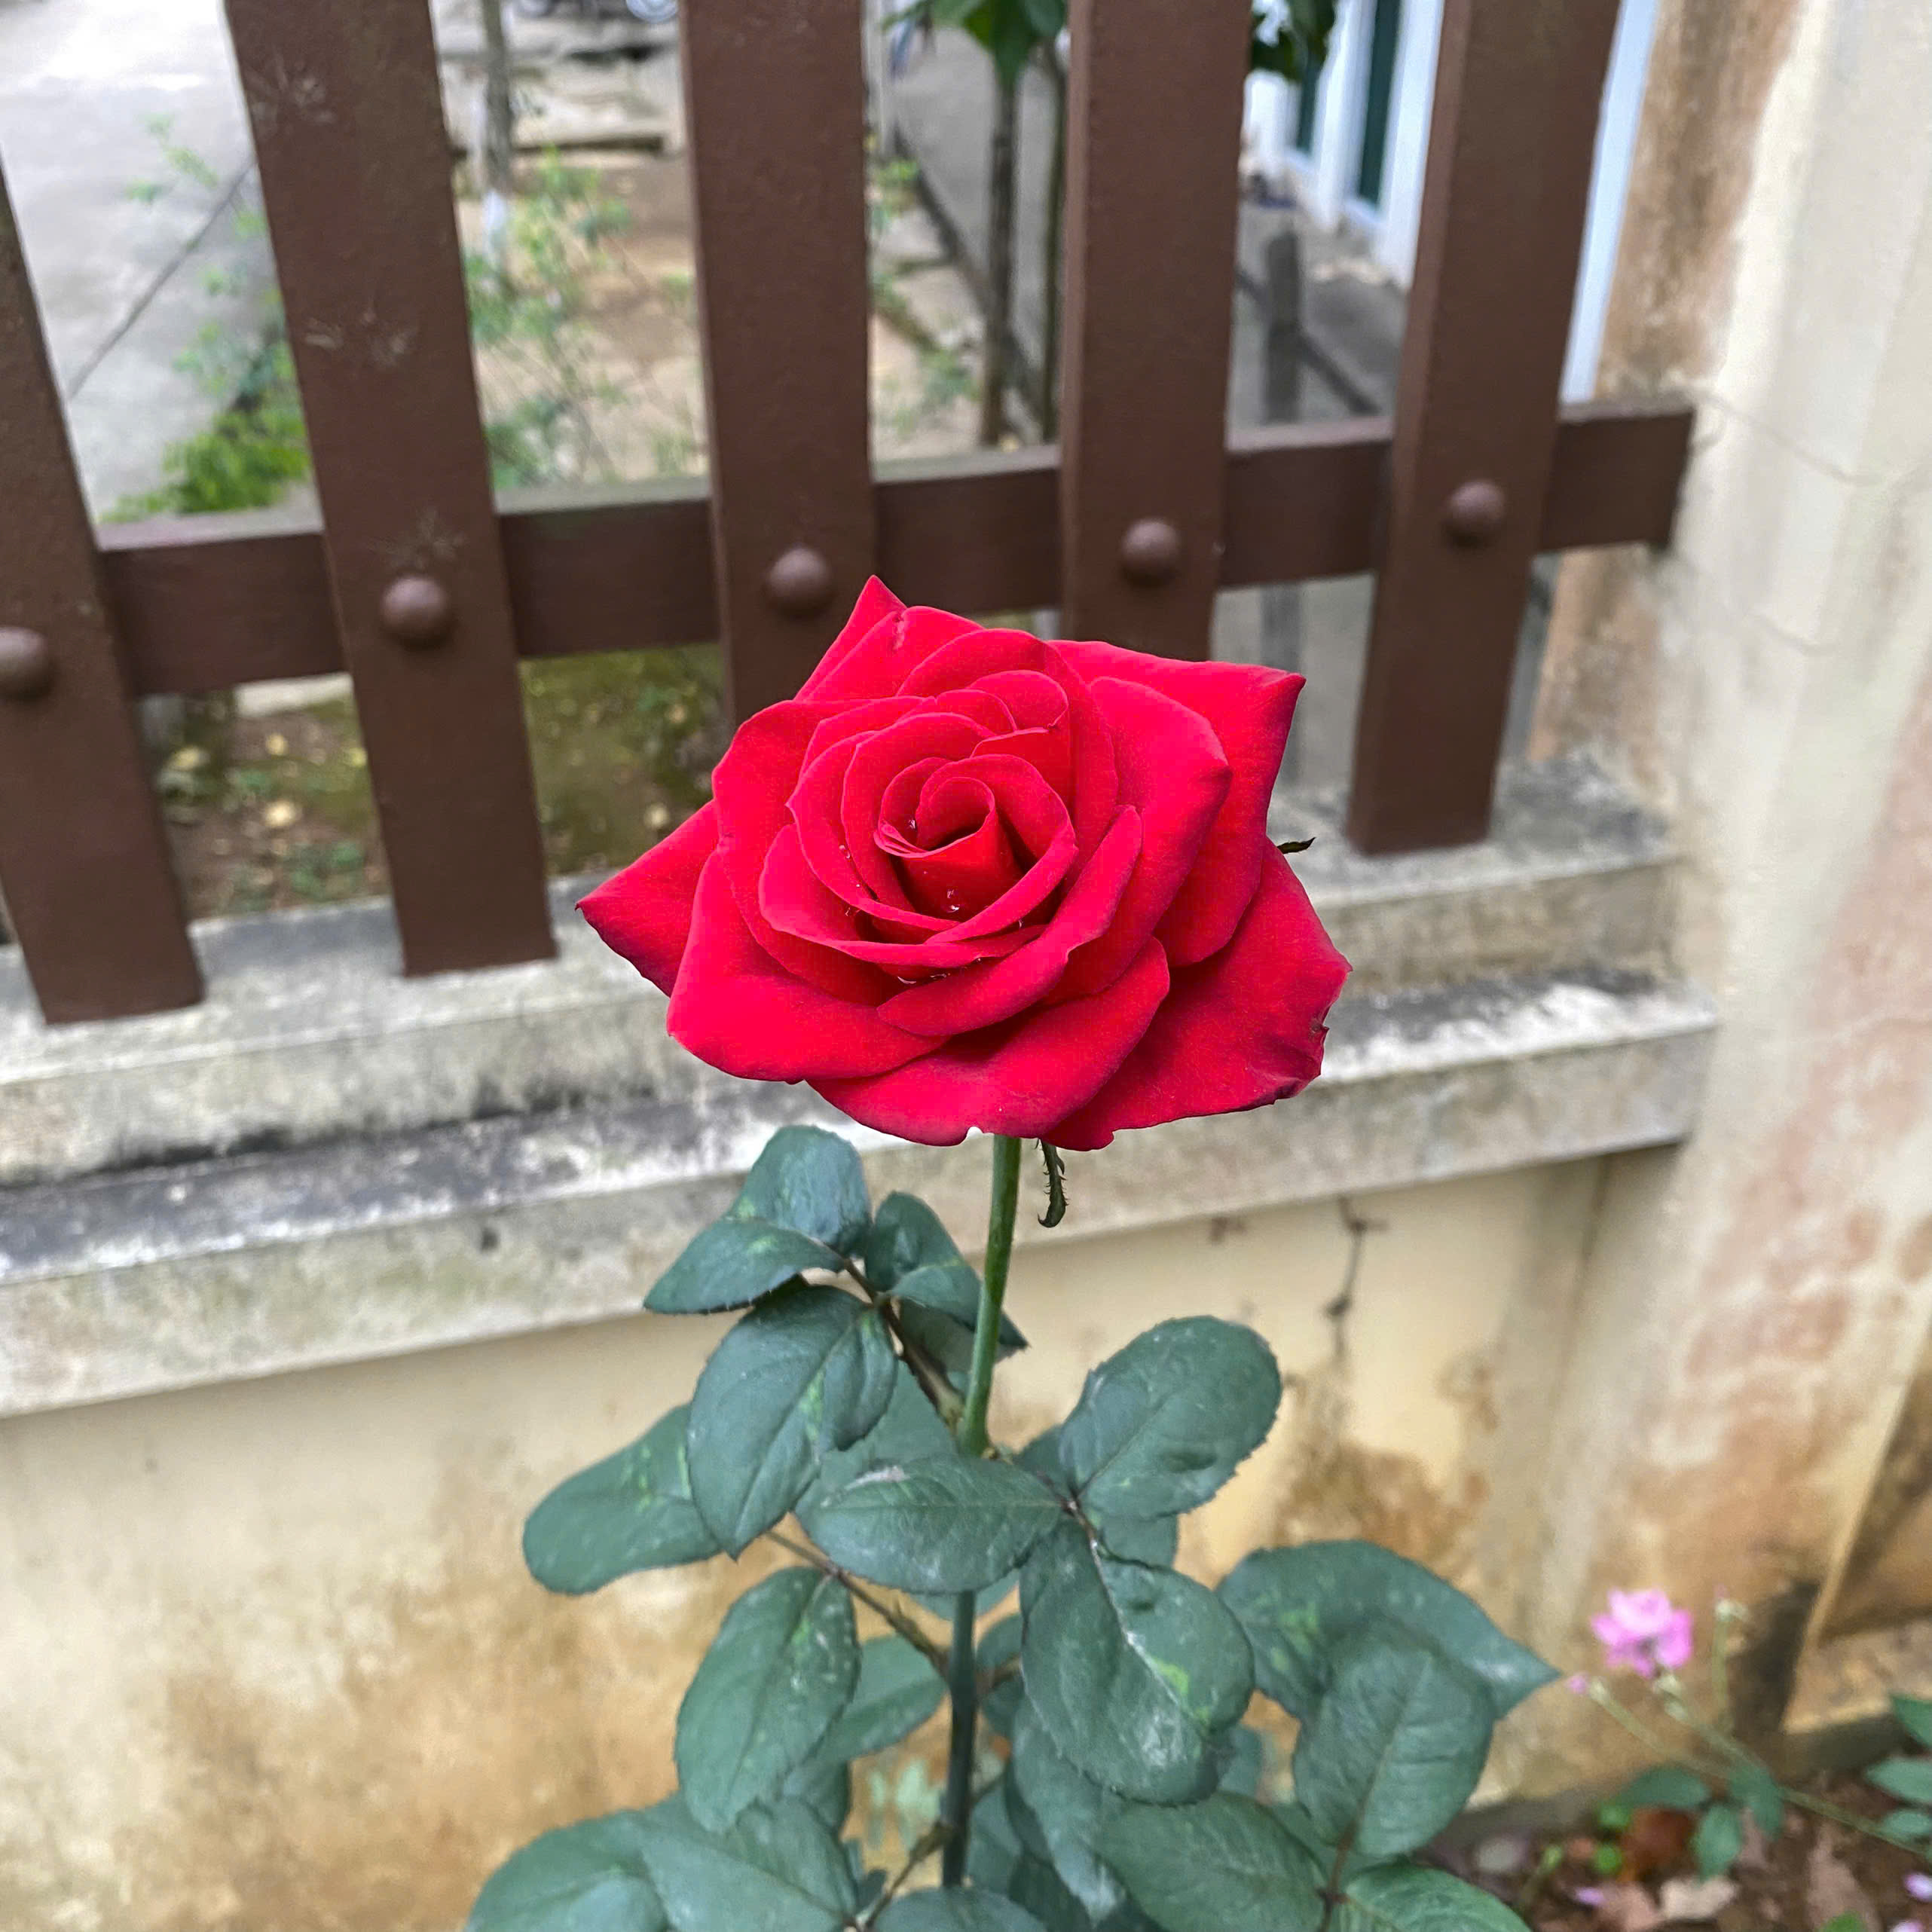hoa_hong_do: (492, 522, 1622, 1932)
